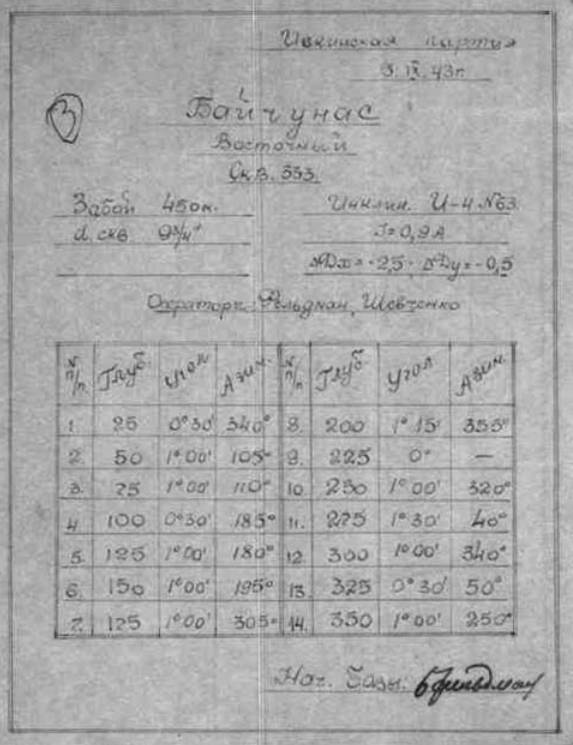Bordered: (54, 340, 518, 638)
